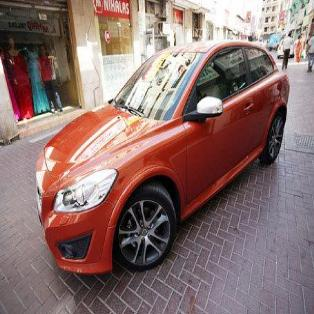Auto: (31, 39, 288, 281)
